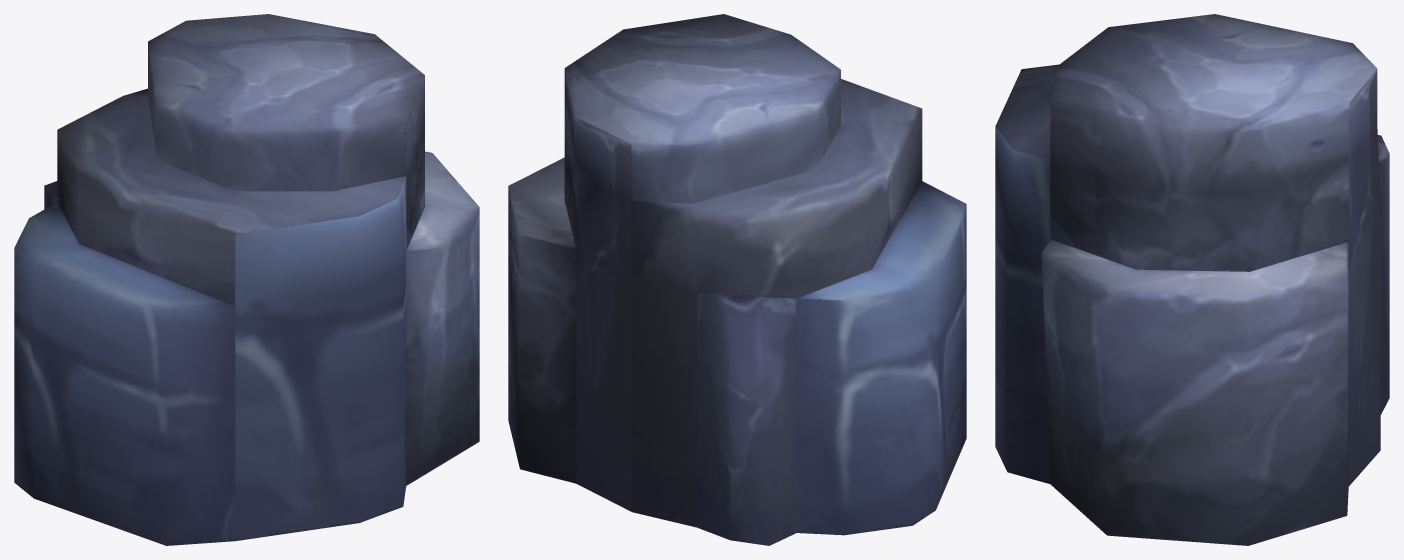
The model's file is Snake_rock_05.fbx.
The picture shows the model from 3 angles, left to right: view 1: azimuth 30°, elevation 25°; view 2: azimuth 150°, elevation 25°; view 3: azimuth 270°, elevation 25°; orthographic projection. The views are drawn at different scales.
Parts seen in each view (by area): view 1: Snake_rock_05; view 2: Snake_rock_05; view 3: Snake_rock_05.
Boxes of the visible parts, box(x1,y1,x2,y2) form: Snake_rock_05: box(14, 14, 479, 545); Snake_rock_05: box(508, 14, 966, 545); Snake_rock_05: box(995, 14, 1389, 545).
Size of the model in its own units: 242 by 205 by 192.
